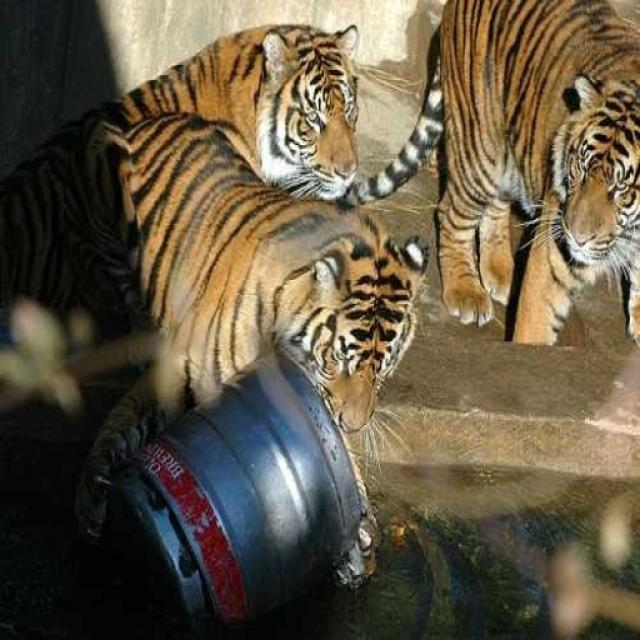tiger: (67, 108, 430, 554), (0, 21, 366, 415), (342, 0, 639, 352)
